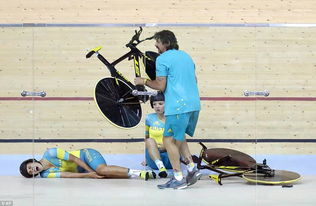fall: (132, 87, 187, 182)
